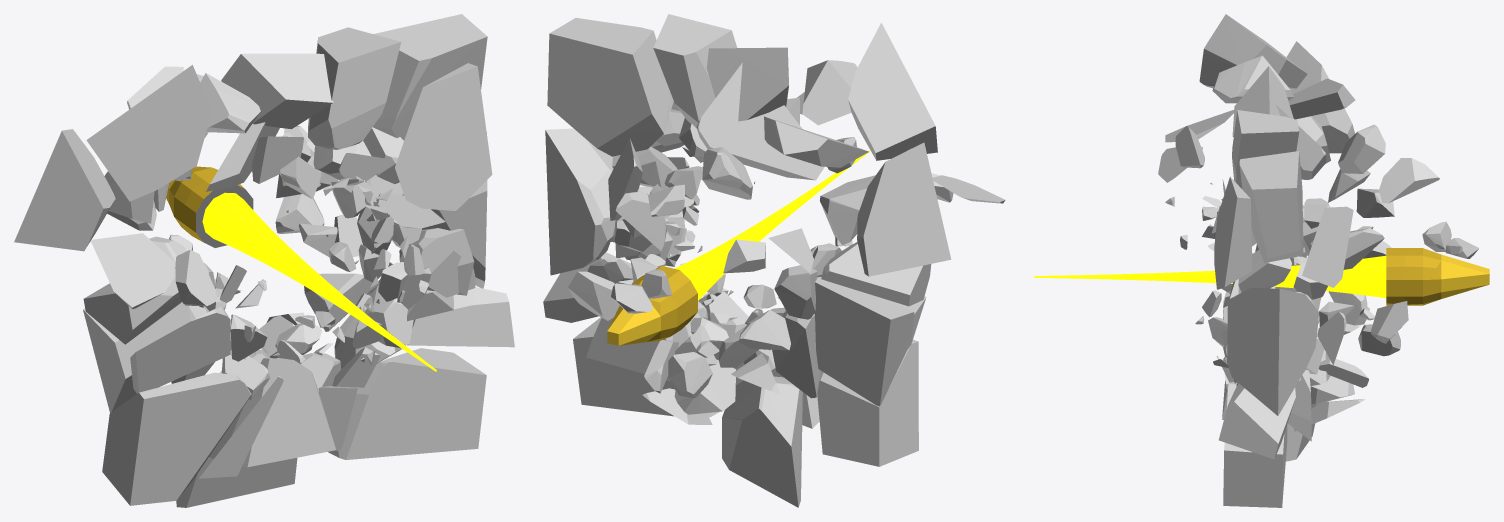
File: PierceBoost.fbx
The picture shows the model from 3 angles, left to right: view 1: azimuth 30°, elevation 25°; view 2: azimuth 150°, elevation 25°; view 3: azimuth 270°, elevation 25°; orthographic projection. The views are drawn at different scales.
Parts seen in each view (by area): view 1: PierceBoost; view 2: PierceBoost; view 3: PierceBoost.
Boxes of the visible parts, <box> form: PierceBoost: <box>14,14,514,507</box>; PierceBoost: <box>543,14,1005,507</box>; PierceBoost: <box>1034,14,1489,507</box>.
Bounding box in the file's own units: 152 × 156 × 158.
